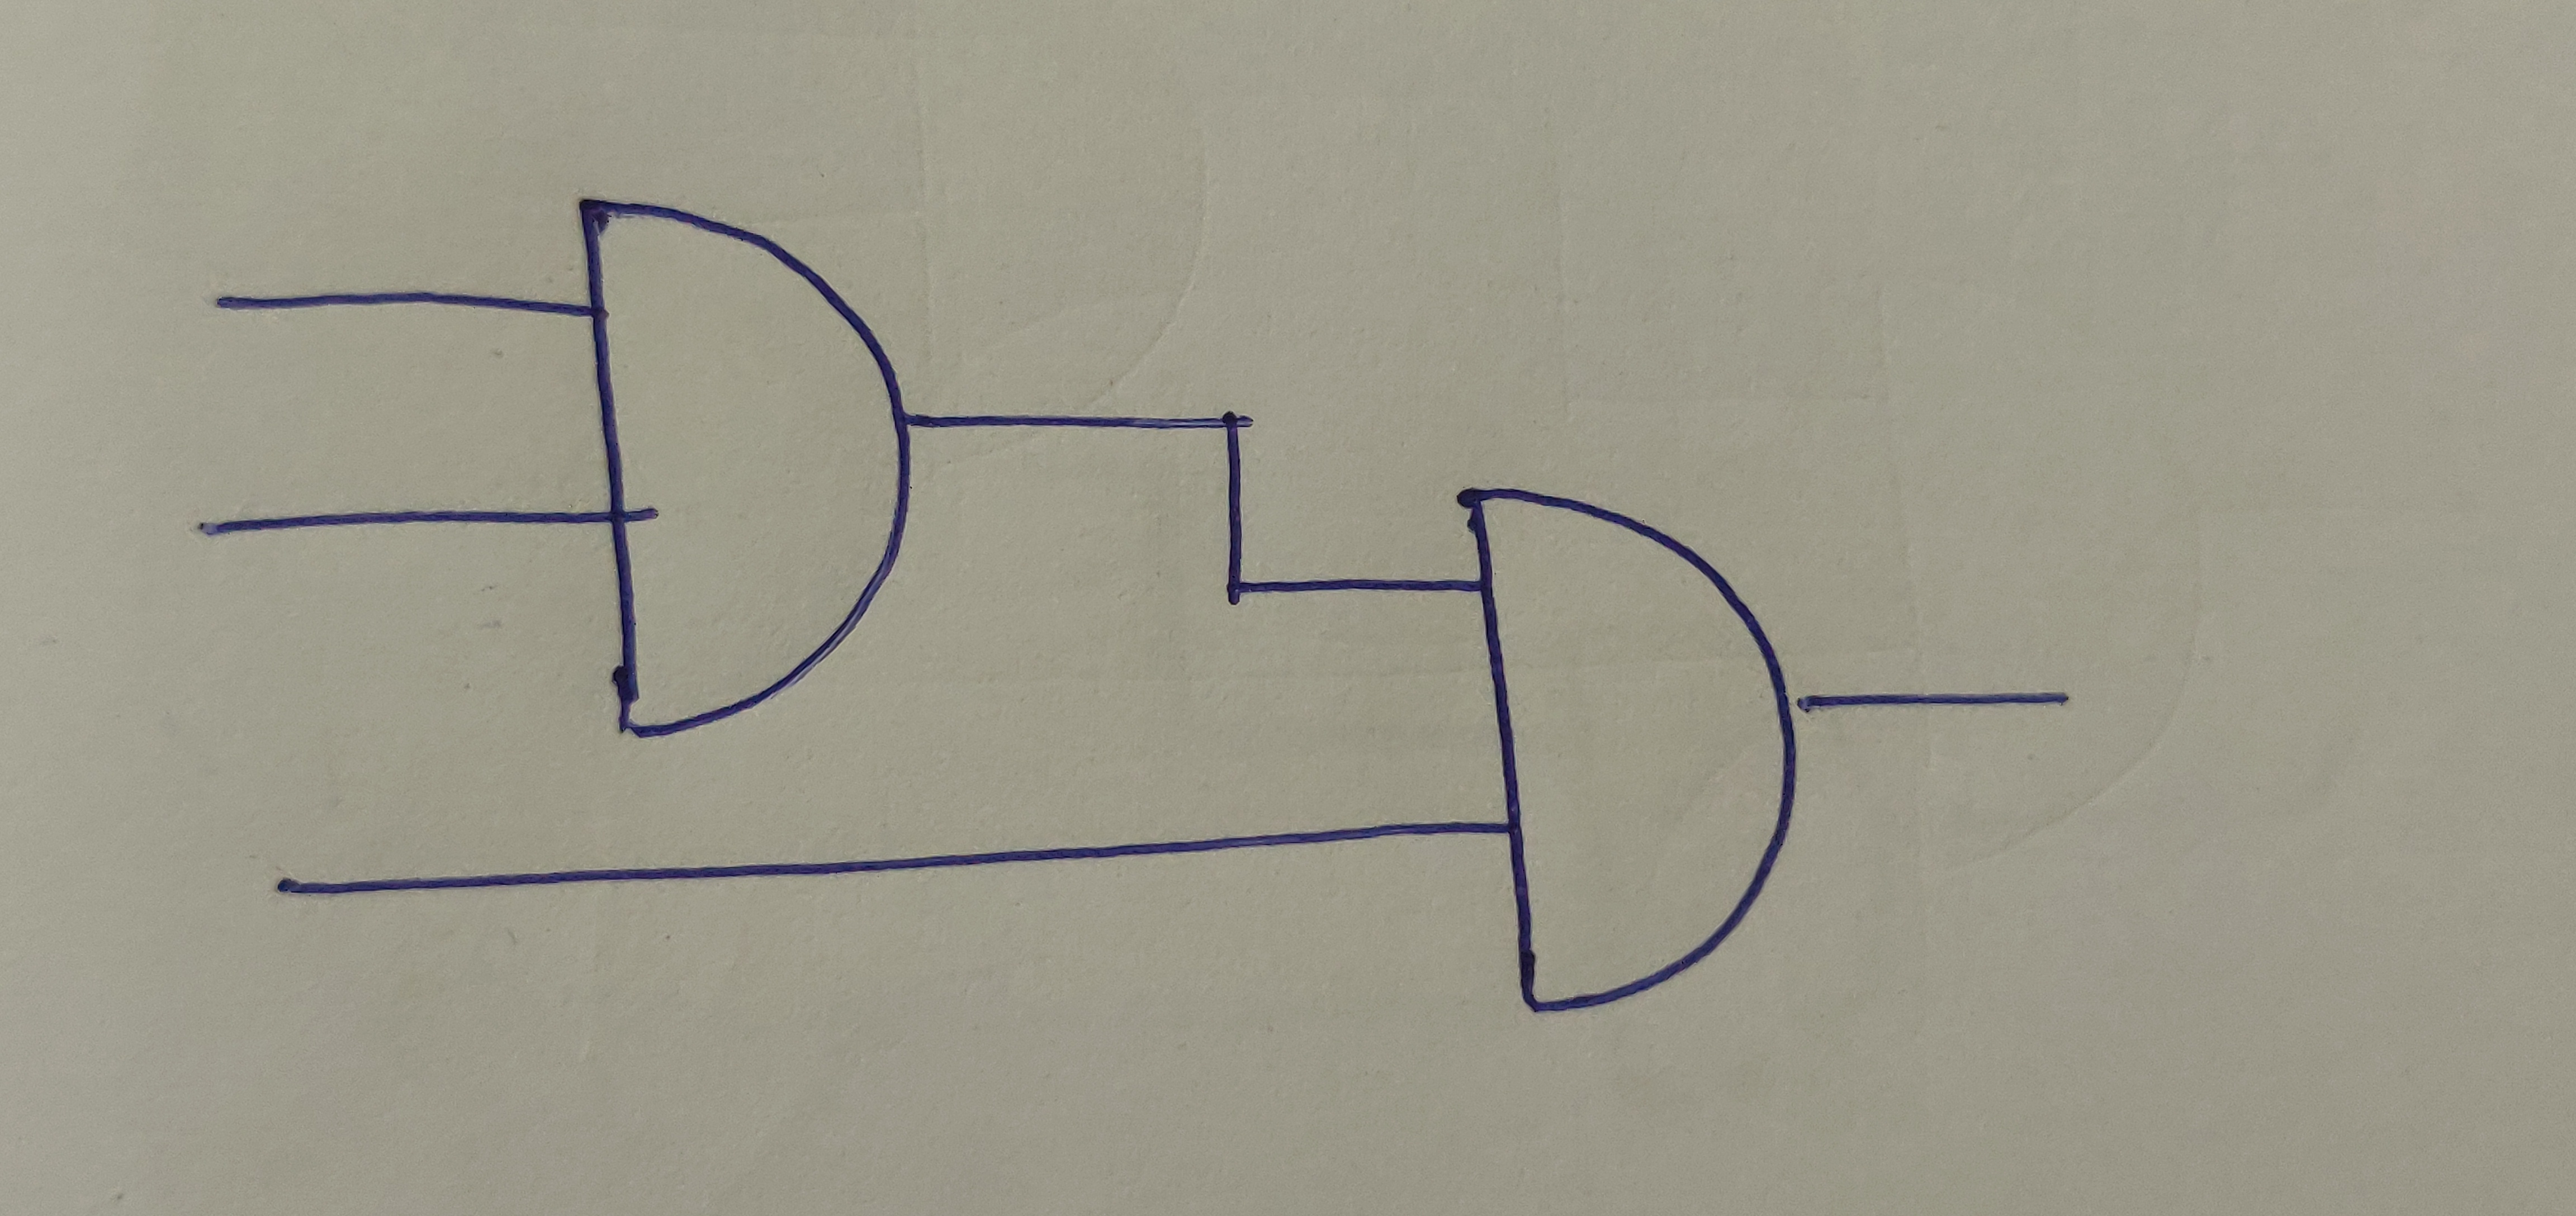and: (1467, 478, 1802, 1019), (578, 197, 913, 736)
